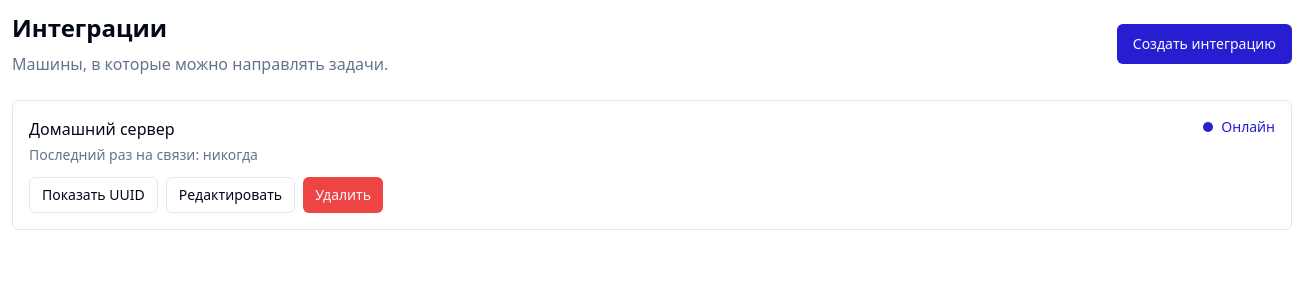
Test: IntegrationsPage (тикет 9.3, FR B1-B5) › повторный показ UUID запрашивает GET /integrations/{id}
Click the button "Показать UUID": [93, 195] box [29,177,158,213]
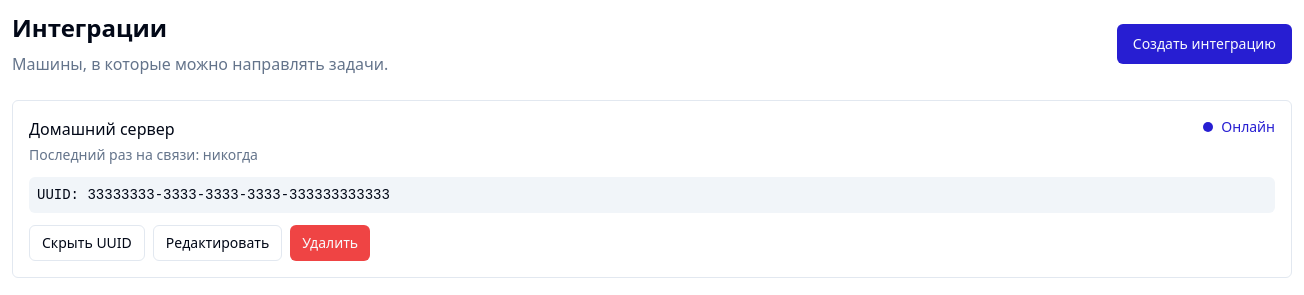
Check: the text "UUID: 33333333-3333-3333-3333-333333333333" is shown, box [29,177,1275,213]
